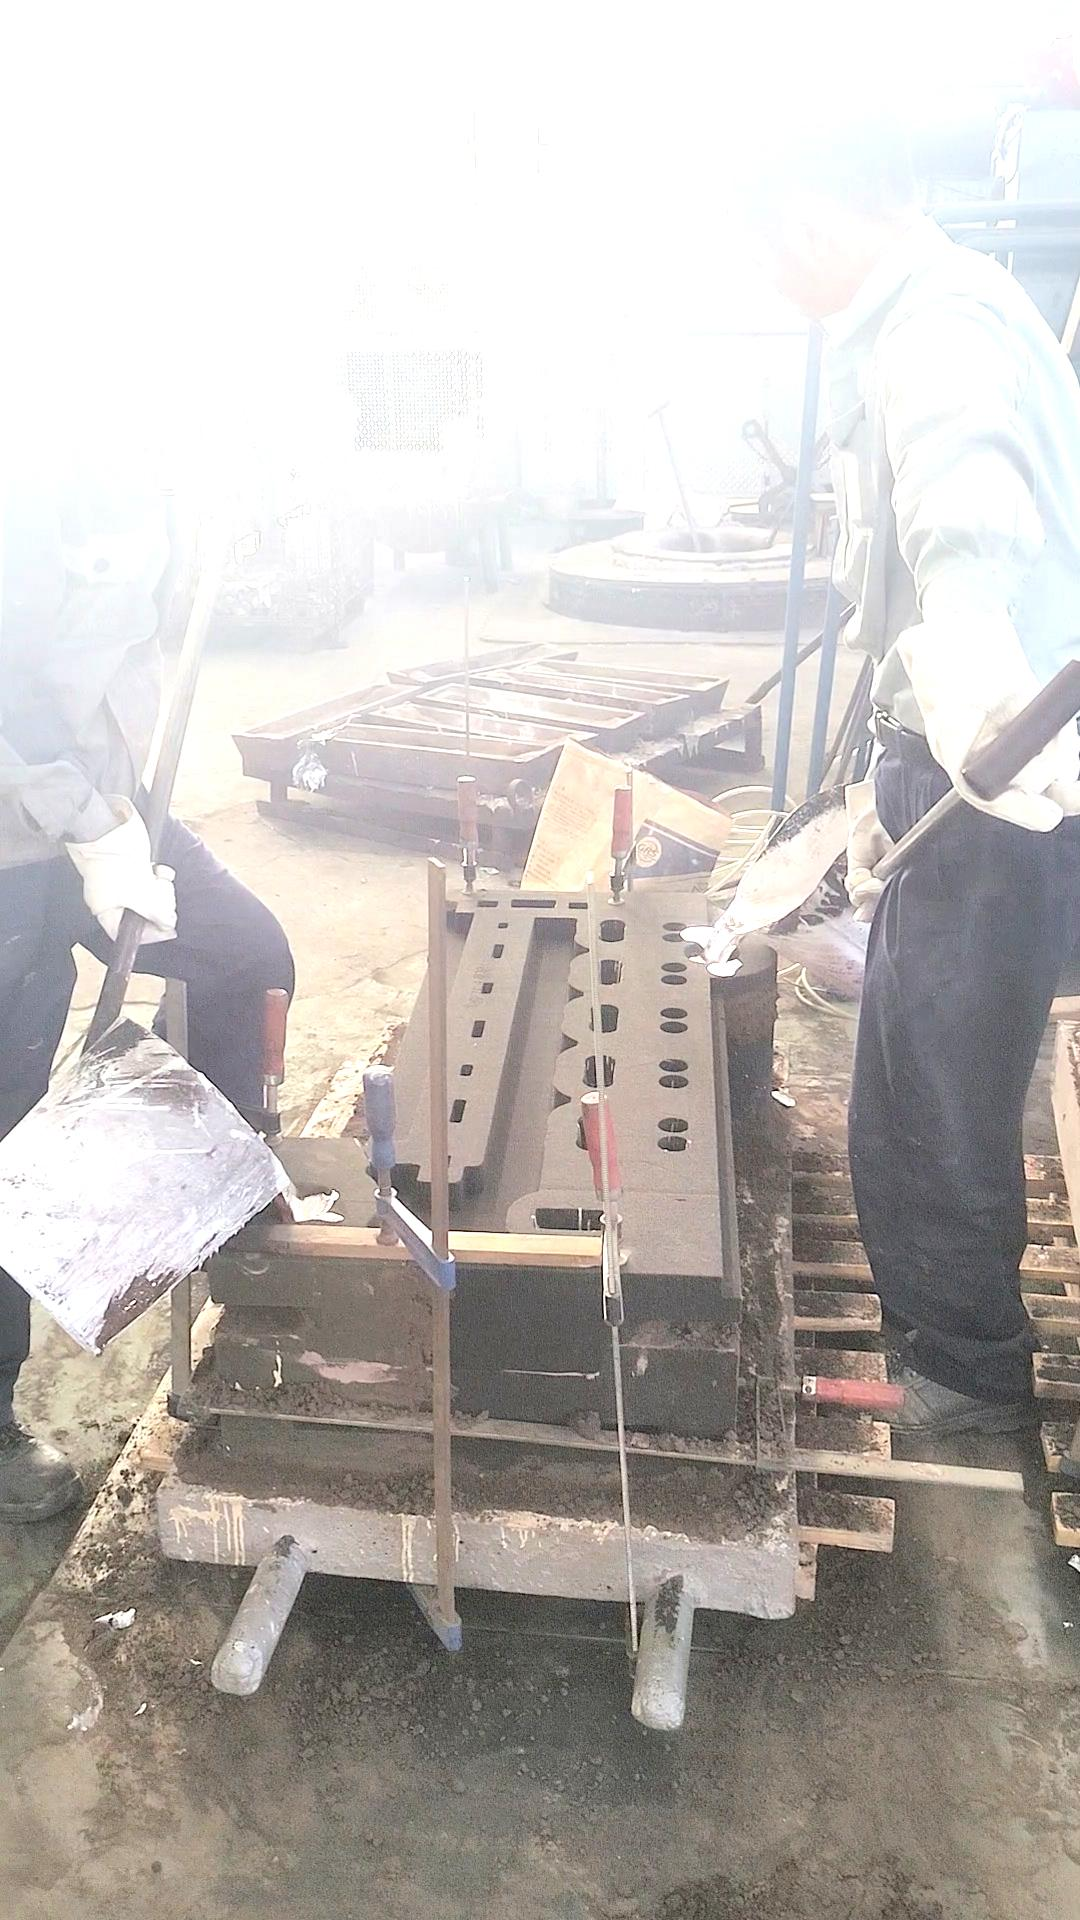pouring hole: (266, 1180, 330, 1224), (683, 940, 738, 963)
